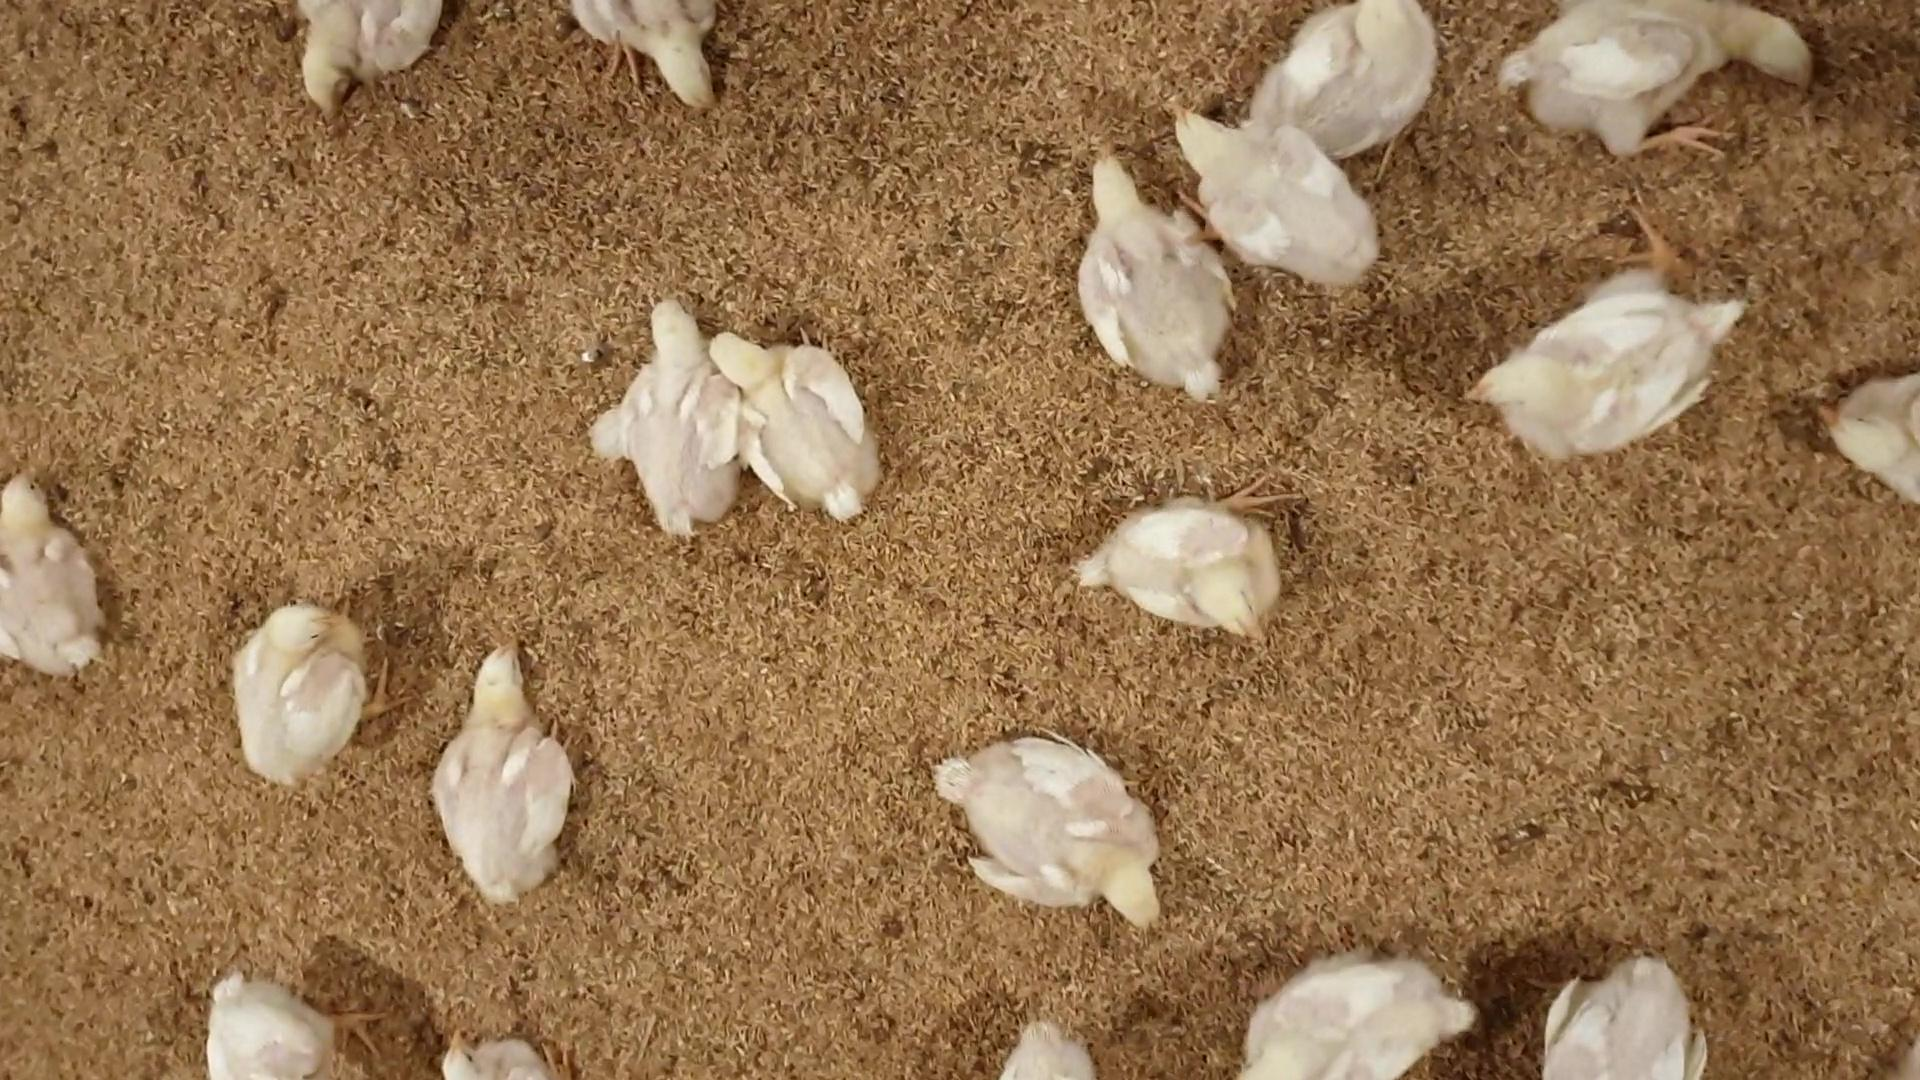Pollos: (1464, 284, 1754, 458), (938, 725, 1170, 931), (440, 636, 583, 910), (1085, 142, 1226, 401), (1170, 98, 1375, 273), (612, 295, 741, 541), (223, 593, 382, 789), (1075, 498, 1284, 637), (717, 340, 882, 513), (0, 462, 99, 700)
